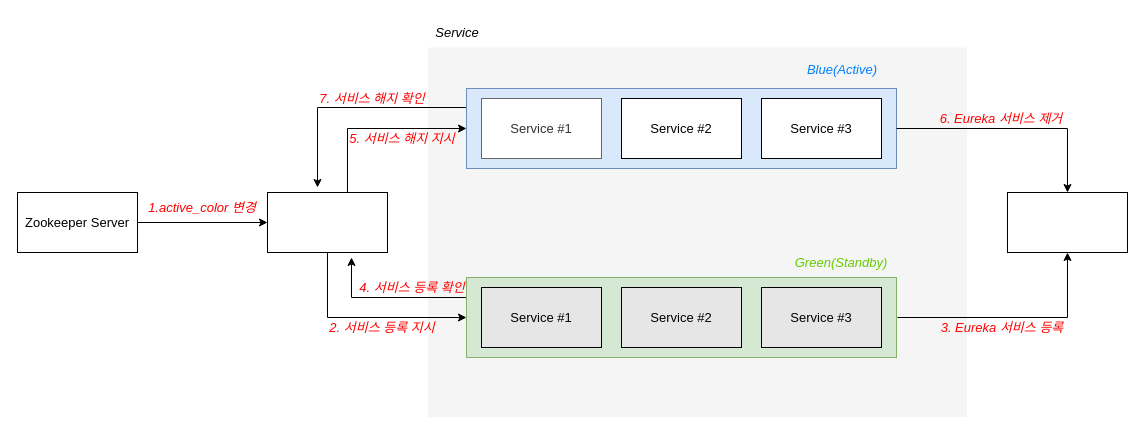
Some shapes in this 1145 by 435 pixel diagram are drawn without their labels. The box of each missing label's shape, as (x1, y1, x2, y2) in pixels:
Eureka Server: (1006, 192, 1128, 252)
Zookeeper Client: (266, 192, 388, 252)
